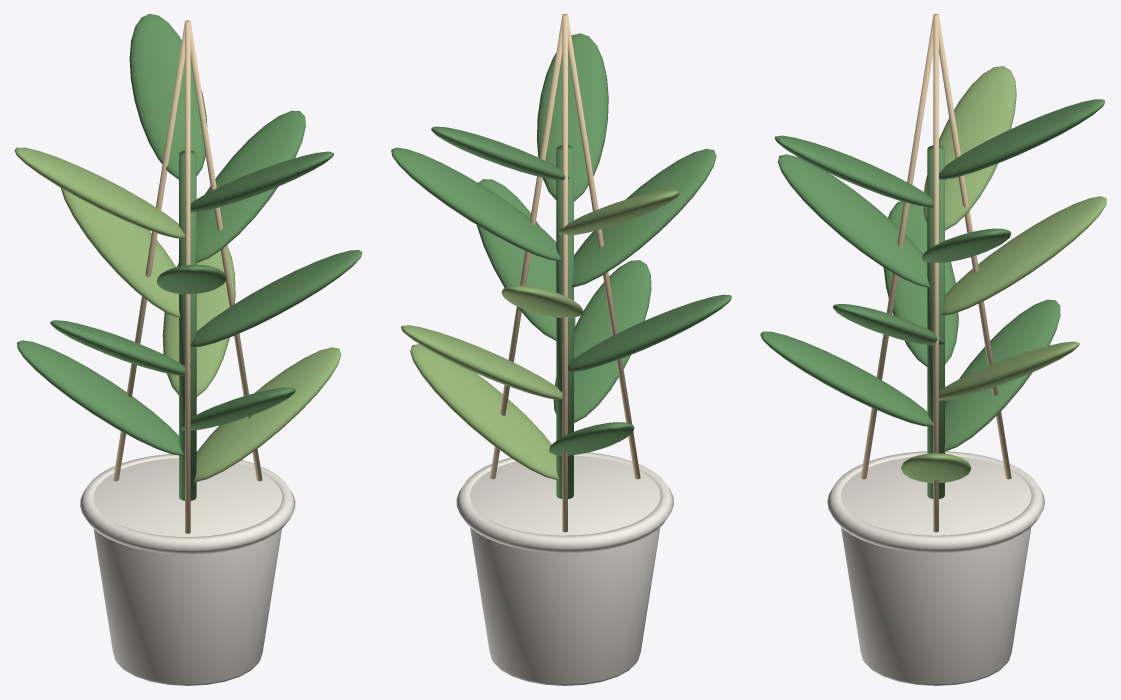
The model's file is atelier-hanging-plant.glb.
3 renders of one model, left to right at view 1: azimuth 30°, elevation 25°; view 2: azimuth 150°, elevation 25°; view 3: azimuth 270°, elevation 25°, orthographic.
Visible parts, largest first — view 1: ceramic.040, leaf.004, leafLight.004, accent.019; view 2: leaf.004, ceramic.040, leafLight.004, accent.019; view 3: ceramic.040, leaf.004, leafLight.004, accent.019.
Boxes of the visible parts, box(x1,y1,x2,y2) form: ceramic.040: box(80, 454, 295, 685); leaf.004: box(17, 14, 362, 500); leafLight.004: box(14, 147, 341, 482); accent.019: box(113, 20, 262, 533); leaf.004: box(391, 33, 731, 498); ceramic.040: box(456, 452, 673, 685); leafLight.004: box(401, 190, 679, 480); accent.019: box(490, 14, 640, 532); ceramic.040: box(827, 451, 1044, 685); leaf.004: box(760, 99, 1104, 498); leafLight.004: box(901, 66, 1106, 482); accent.019: box(861, 14, 1011, 532).
Bounding box in the file's own units: 0.5954 × 1.2 × 0.5885.
